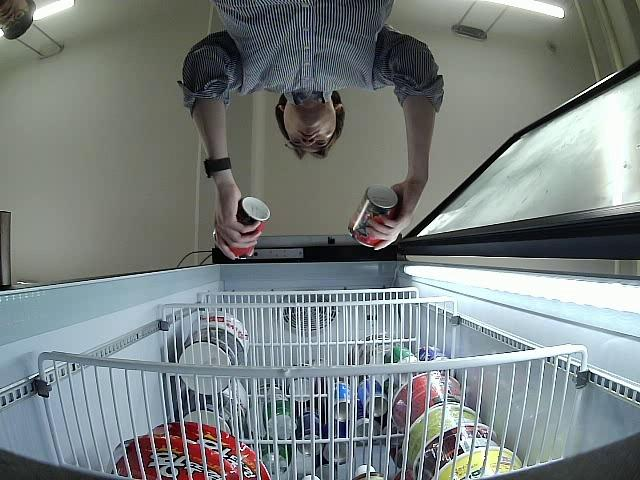00_hand: (215, 182, 263, 261), (365, 186, 416, 254)
02_shinRamen_S: (213, 196, 270, 259), (348, 187, 397, 249)
